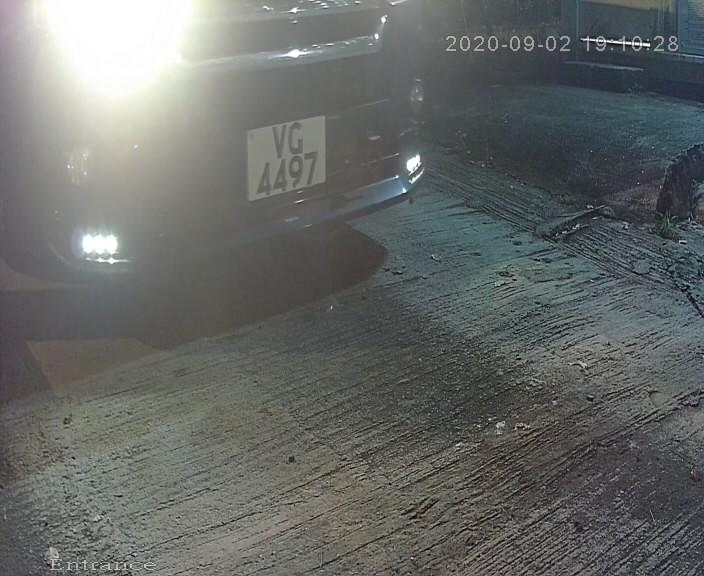License Plate: (236, 98, 337, 217)
